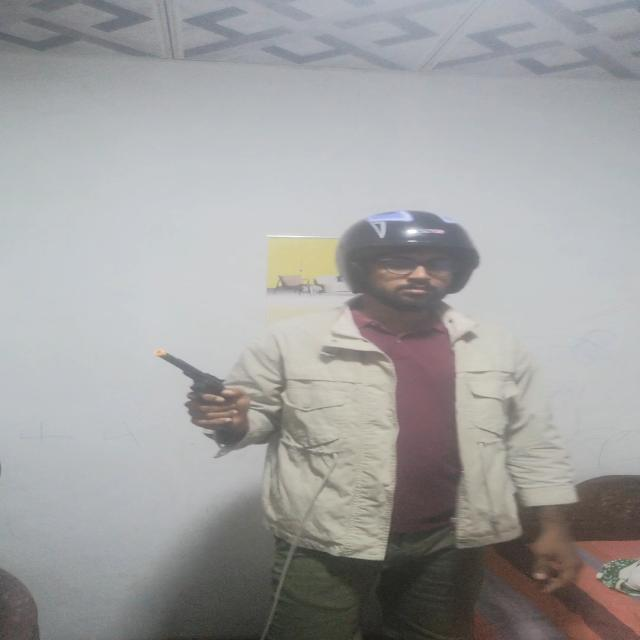Gun_Holder: (128, 345, 262, 432)
Helmet_Wearer: (318, 206, 488, 320)
Jacket_Wearer: (158, 301, 596, 550)
Person: (185, 202, 594, 640)
